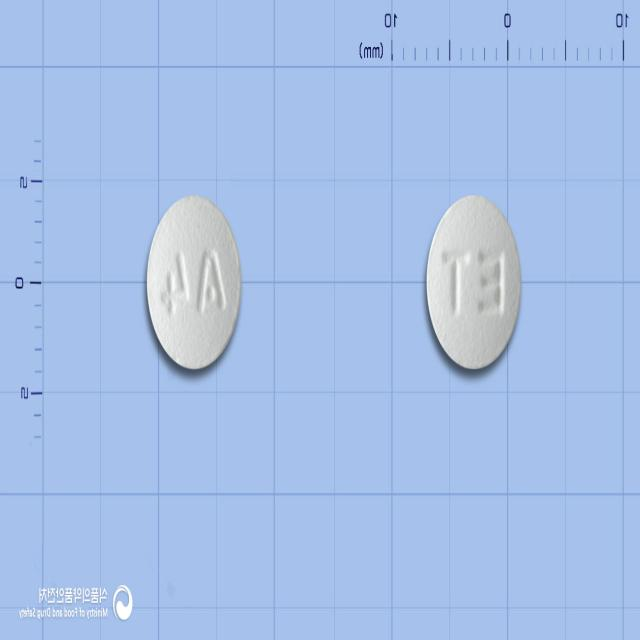Ciropan: (425, 190, 522, 371), (146, 195, 242, 372)
